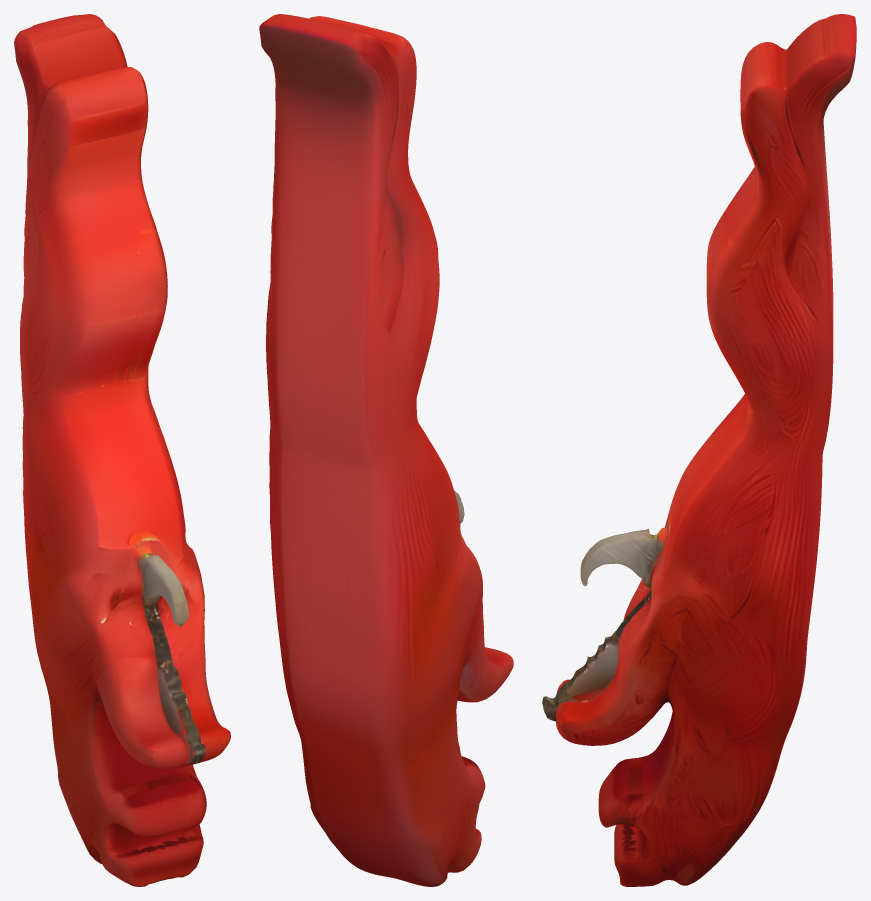
The model's file is jaguar.glb.
The picture shows the model from 3 angles, left to right: view 1: azimuth 30°, elevation 25°; view 2: azimuth 150°, elevation 25°; view 3: azimuth 270°, elevation 25°; orthographic projection. The views are drawn at different scales.
Visible parts, largest first — view 1: model; view 2: model; view 3: model.
Part boxes in pixels (x1,y1,x2,y2): model: [14, 14, 230, 886]; model: [259, 14, 513, 886]; model: [542, 14, 856, 886].
Bounding box in the file's own units: 0.2981 × 1.74 × 0.5886.
1 material, 1 textured.
